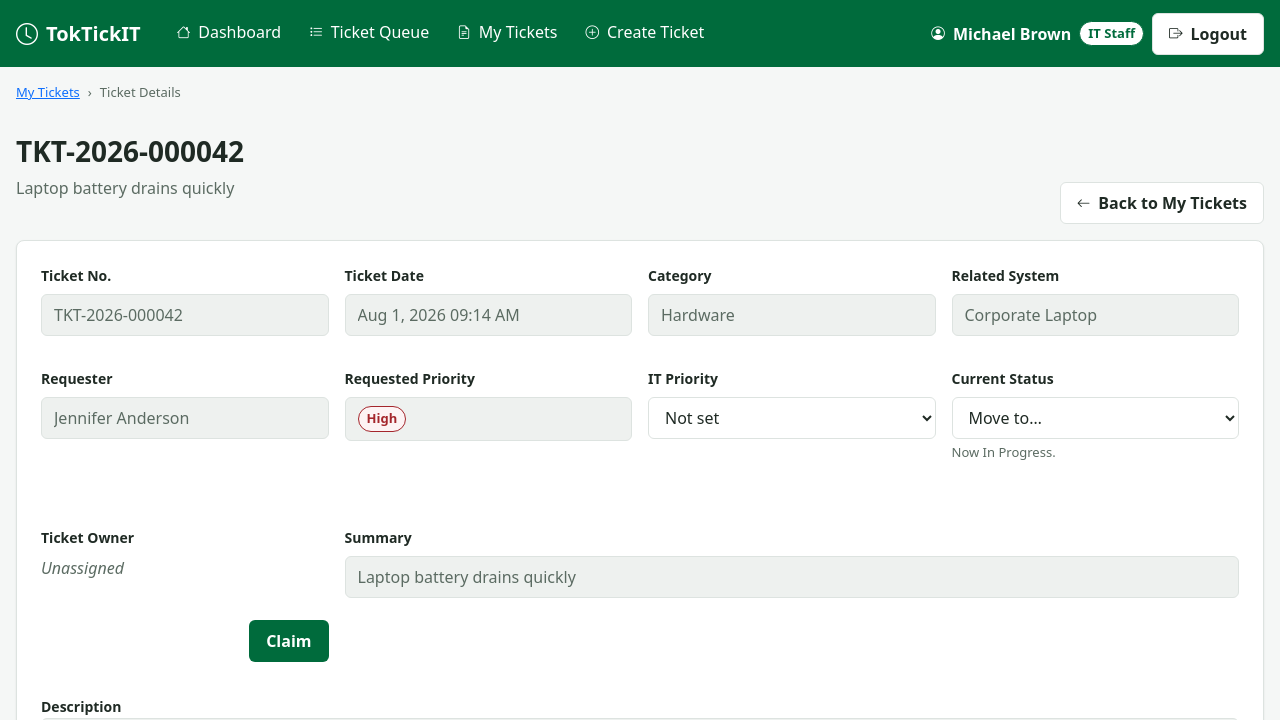
Test: UI-36 a stale resolve keeps the summary text › shows the stale message in the dialog, reloads the Ticket, keeps what was typed and retries with the new version
Step 1. Select "Resolved" in the dropdown labelled "Current Status" → (1095, 418), box [952,397,1239,439]
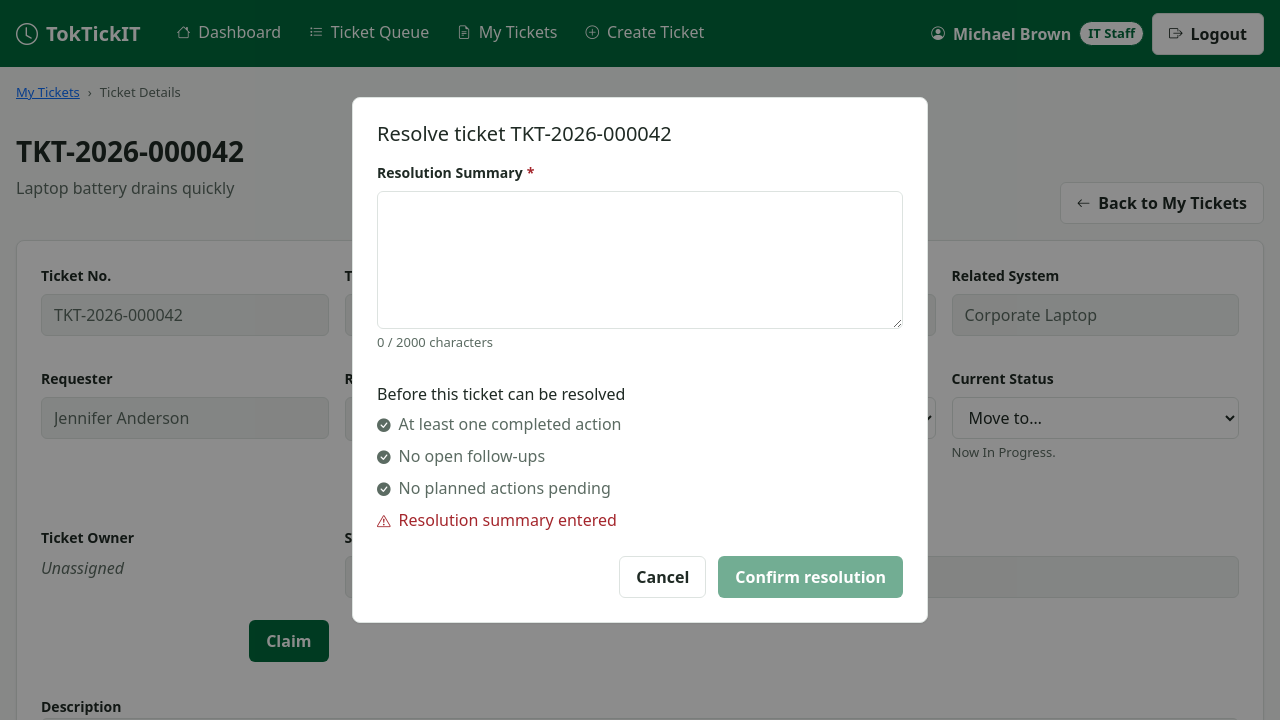
Step 2. Type "Replaced the access point." into the text box labelled "Resolution Summary*" → (640, 260), box [377,191,903,329]
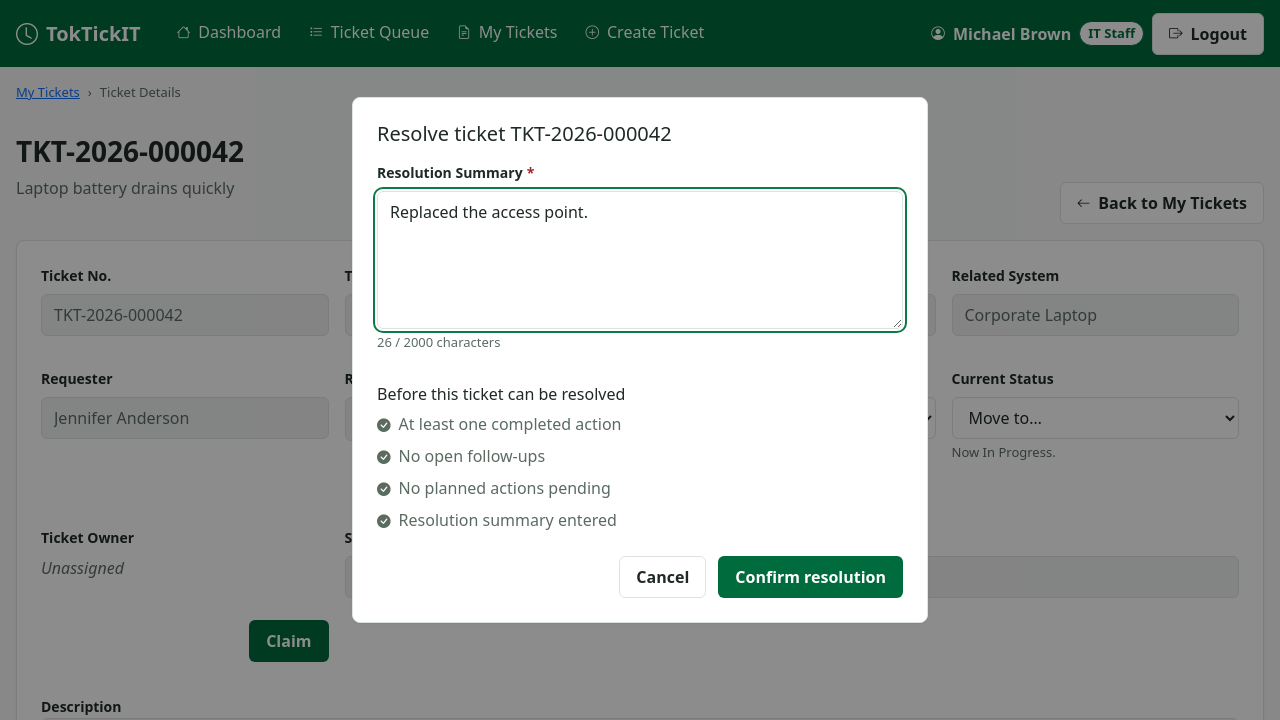
Step 3. Click the button "Confirm resolution" → (811, 577), box [718,556,903,598]
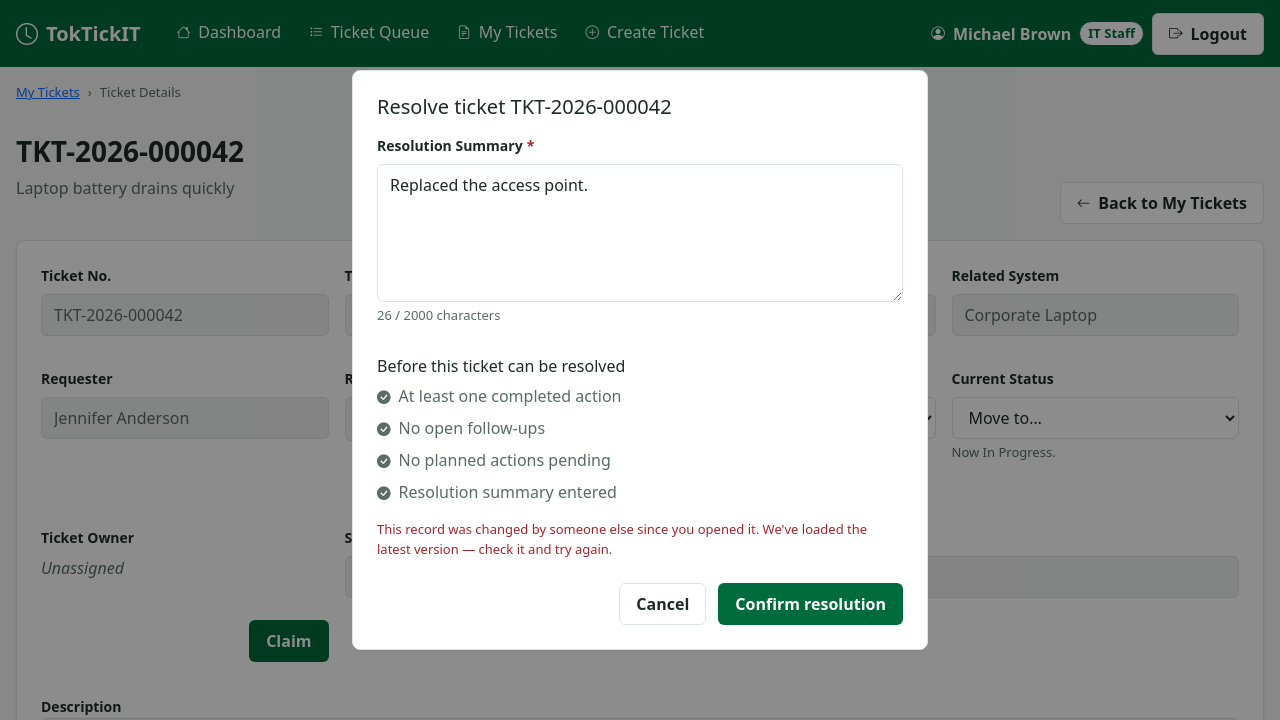
Step 4. Click the button "Confirm resolution" → (811, 604), box [718,583,903,625]
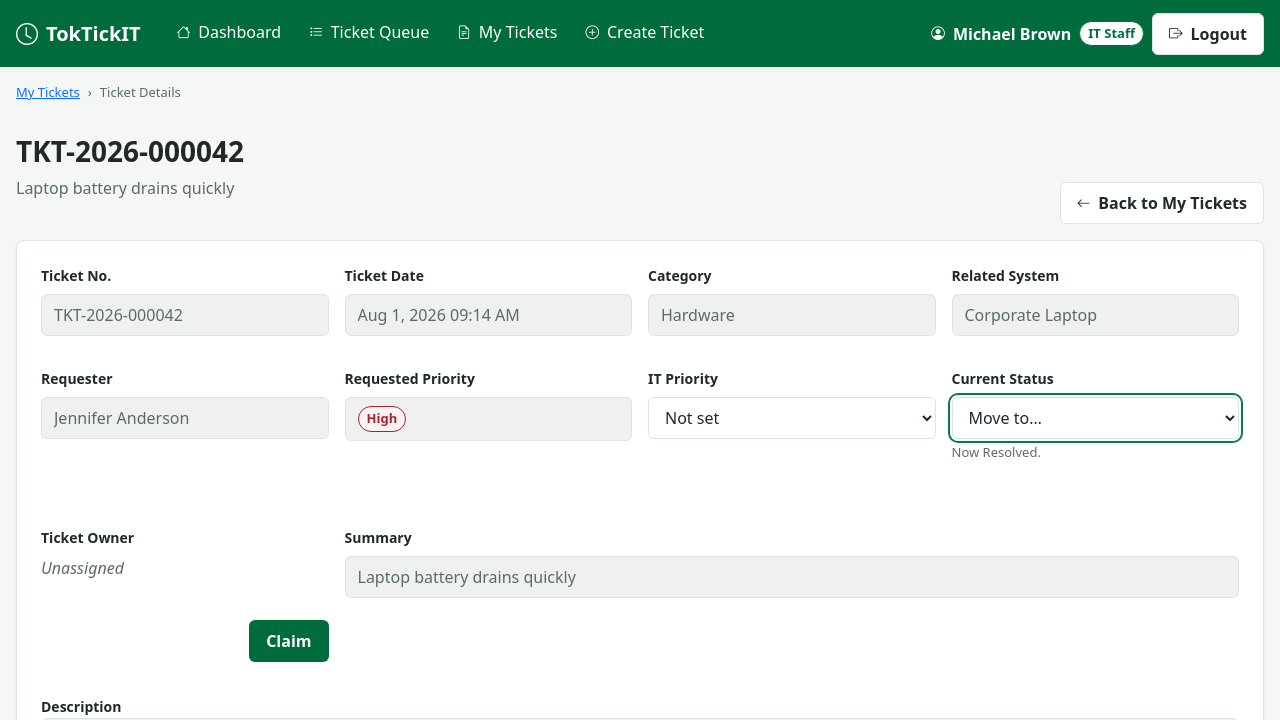
Expected: the dialog is gone
